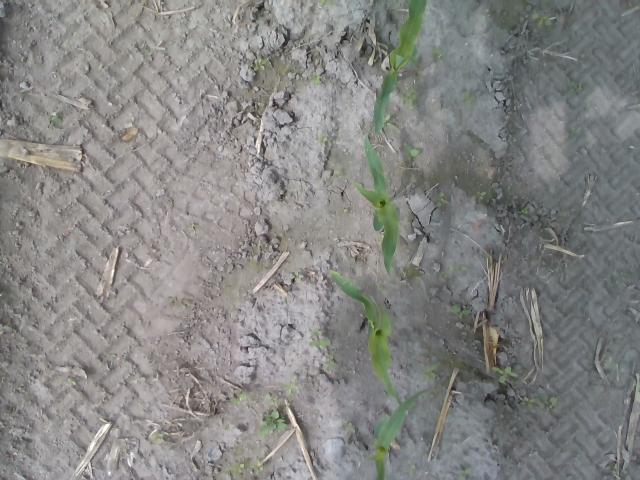Maize: (328, 270, 407, 412), (370, 0, 430, 129), (352, 131, 402, 275), (366, 386, 431, 480)
Weeds: (259, 408, 287, 436), (518, 395, 560, 411), (438, 262, 470, 282), (227, 460, 264, 476), (530, 9, 554, 29), (492, 365, 513, 384), (420, 362, 441, 380), (450, 302, 472, 318), (231, 389, 250, 407), (282, 381, 302, 397), (400, 86, 418, 103), (308, 337, 329, 350), (324, 354, 339, 372), (454, 466, 473, 480), (263, 392, 279, 408), (401, 146, 419, 160), (435, 191, 449, 208), (462, 88, 476, 104), (253, 56, 269, 70), (380, 114, 395, 127), (430, 47, 446, 59), (292, 270, 304, 284), (570, 80, 582, 94), (471, 191, 486, 200), (64, 377, 76, 386), (311, 76, 321, 85), (318, 0, 332, 5)
